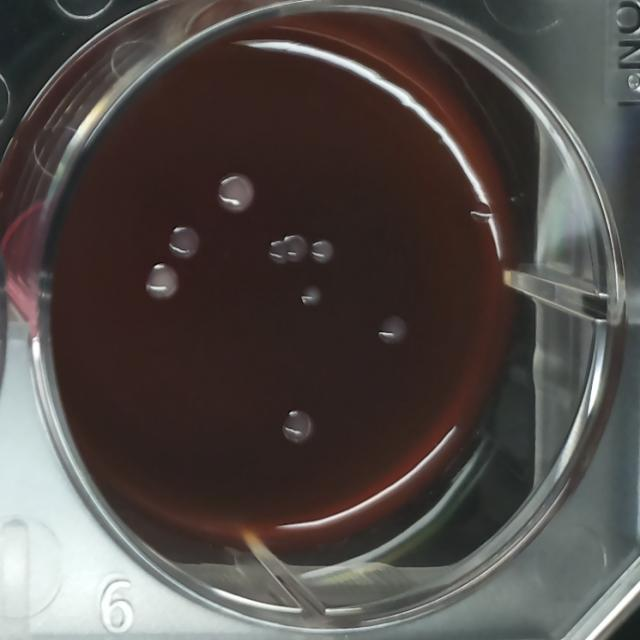Pseudoalteromonas: (213, 169, 257, 218), (139, 259, 183, 307)
